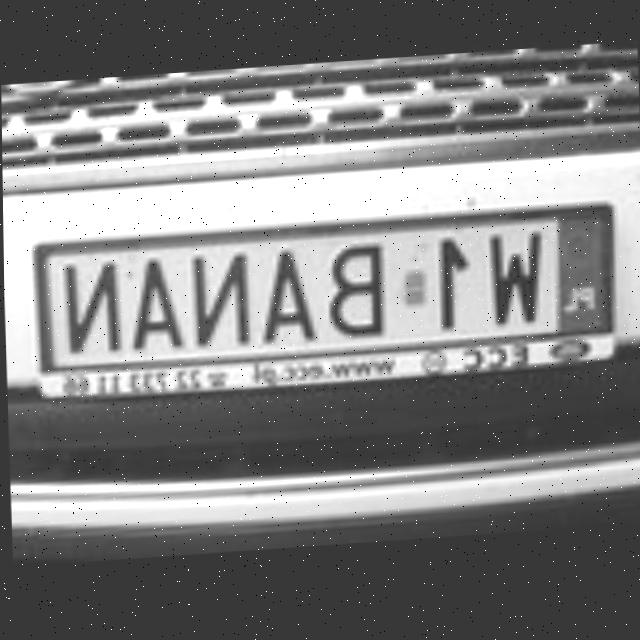license-plates: (35, 207, 610, 373)
